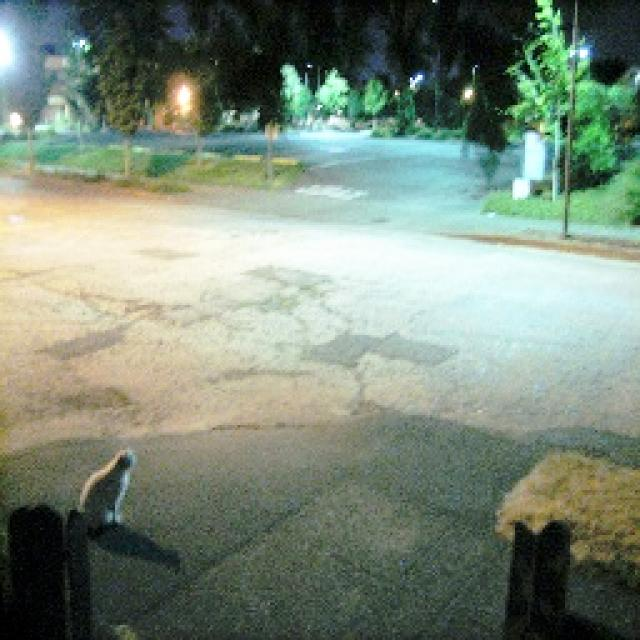cat: (65, 431, 146, 540)
